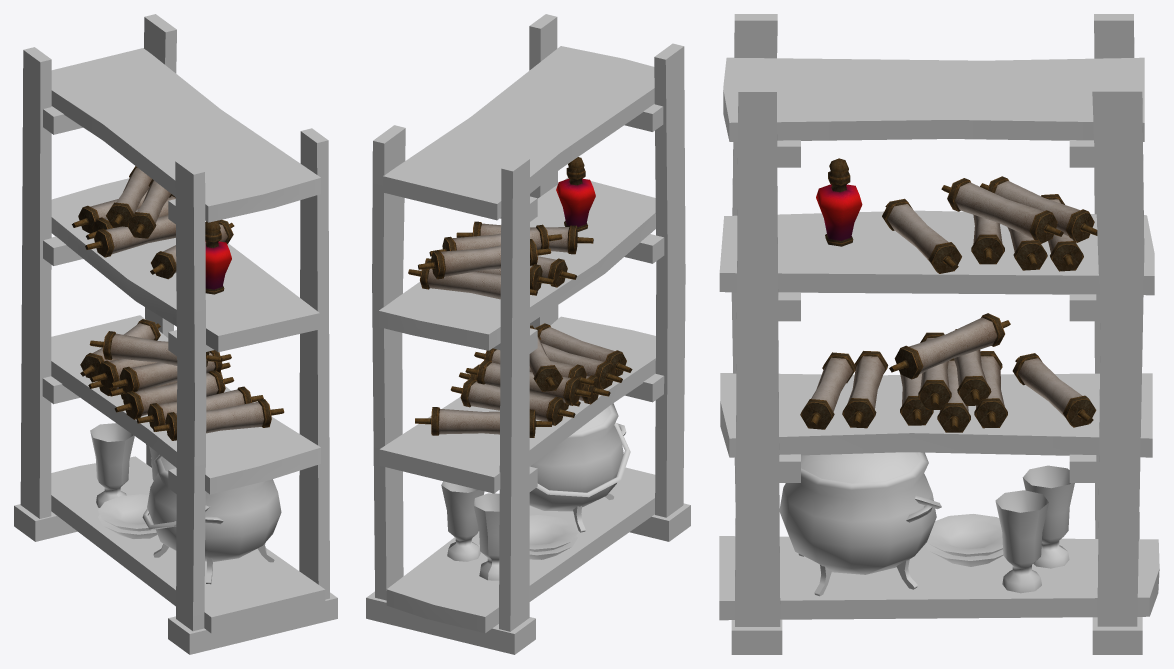
Rendered from Cupboard_05.fbx.
The picture shows the model from 3 angles, left to right: view 1: azimuth 30°, elevation 25°; view 2: azimuth 150°, elevation 25°; view 3: azimuth 270°, elevation 25°; orthographic projection. The views are drawn at different scales.
Parts seen in each view (by area): view 1: Cupboard_05; view 2: Cupboard_05; view 3: Cupboard_05.
Part boxes in pixels (x1,y1,x2,y2): Cupboard_05: (14,14,337,654); Cupboard_05: (366,14,690,654); Cupboard_05: (719,14,1159,654).
Bounding box in the file's own units: 0.8272 × 2.55 × 1.82.
